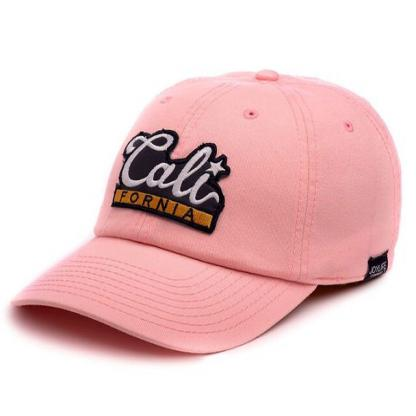cap: (13, 62, 401, 360)
